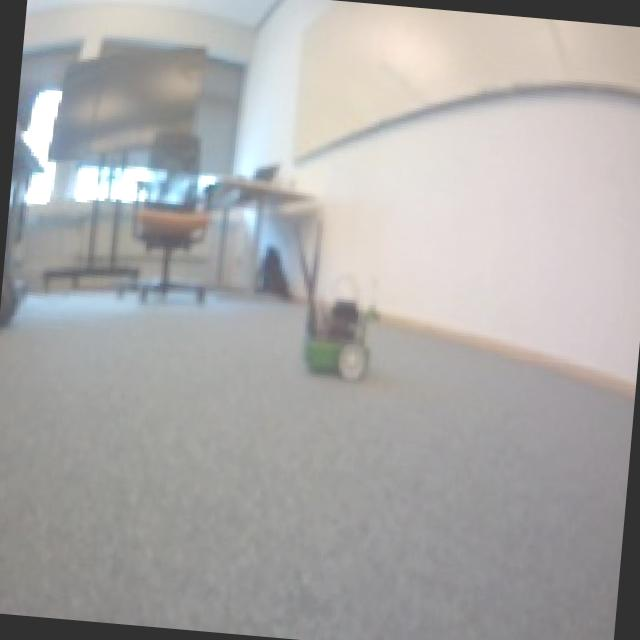robot: (300, 294, 380, 383)
